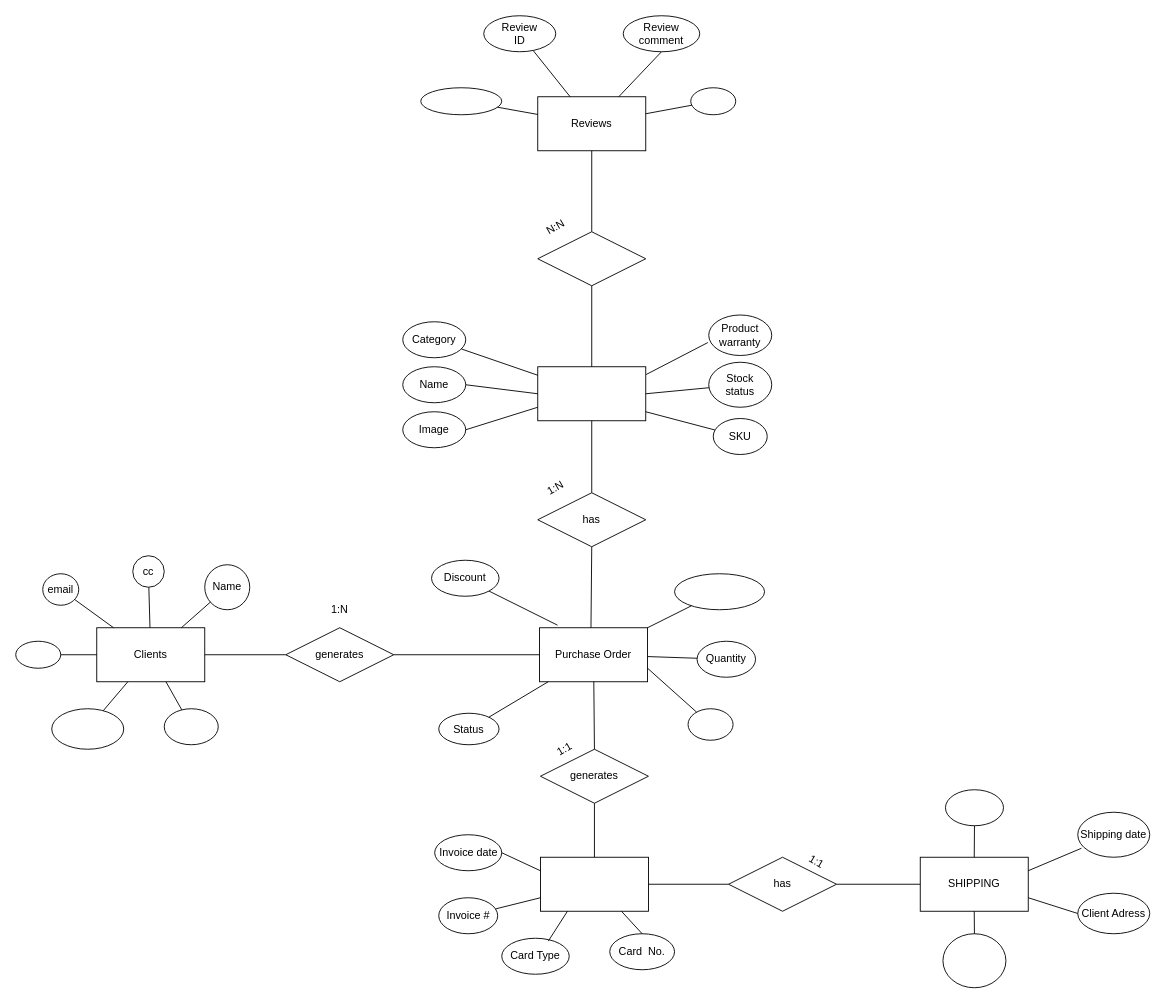
Image size: 1166x1004. Some labels were removed from this diagram. Each missing label, with the centre of its shape:
Address: the point at 190,726
Billing: the point at 594,883
Birthdate: the point at 87,728
contains: the point at 591,258
Courier ID: the point at 974,807
Customer ID: the point at 461,101
Packing slip: the point at 974,960
Phone: the point at 38,654
Price: the point at 710,724
Products: the point at 591,393
Purchase ID: the point at 719,591
Rating: the point at 713,101
